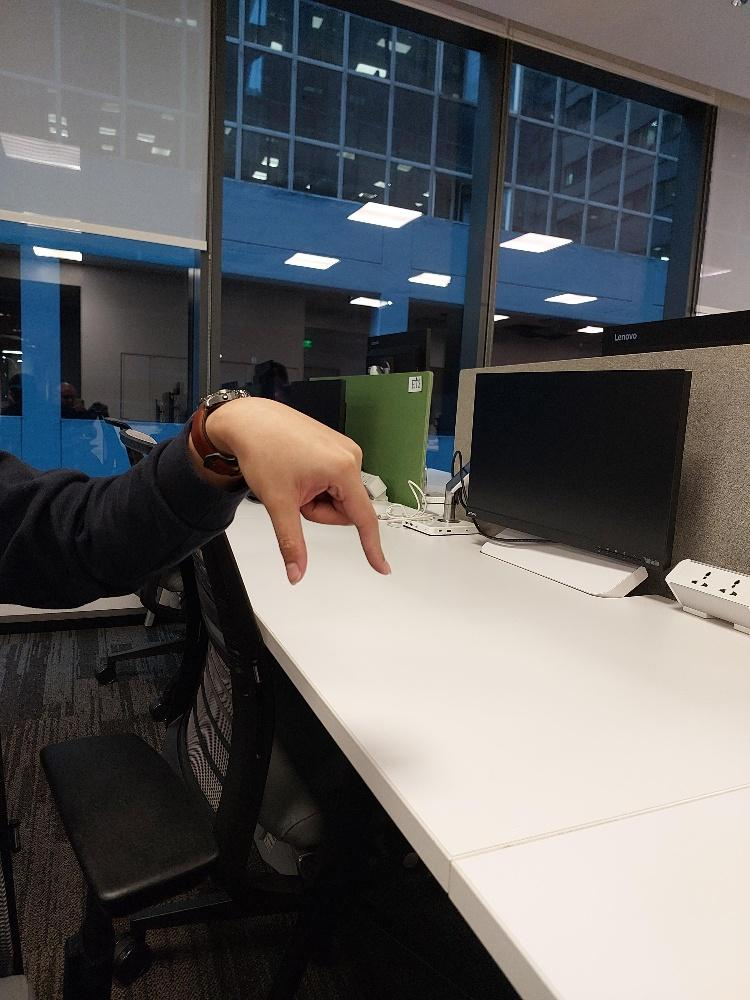q: (246, 407, 388, 585)
